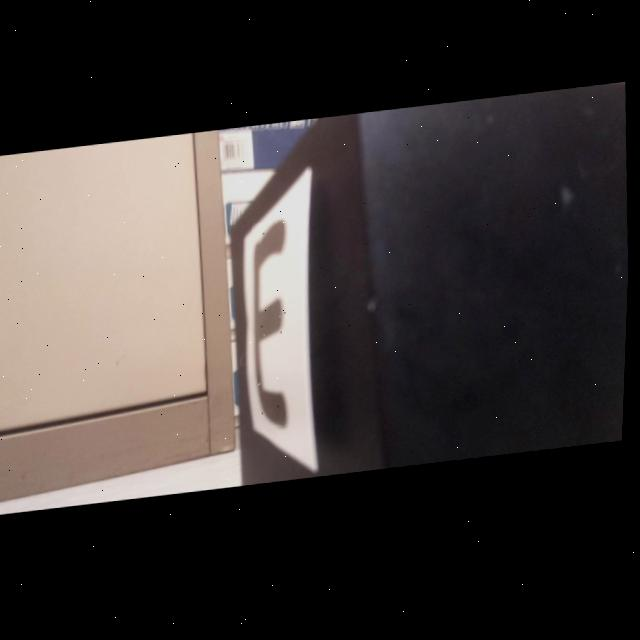E: (256, 224, 290, 431)
